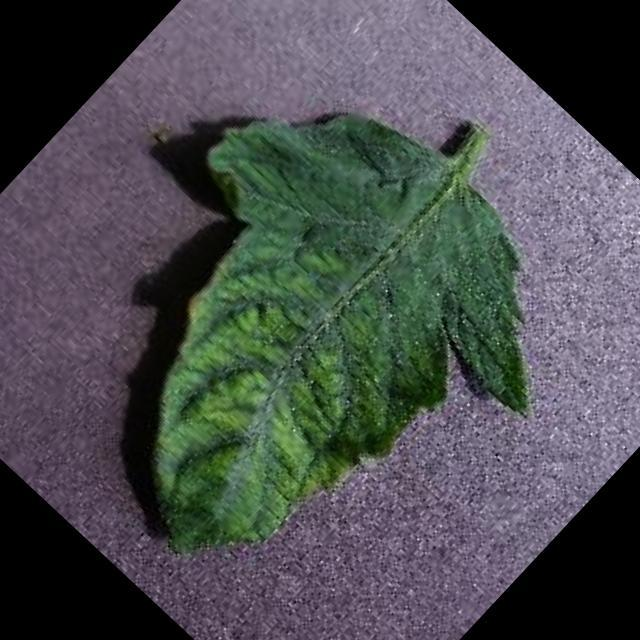Tomato mosaic virus leaf: (0, 32, 614, 640)
